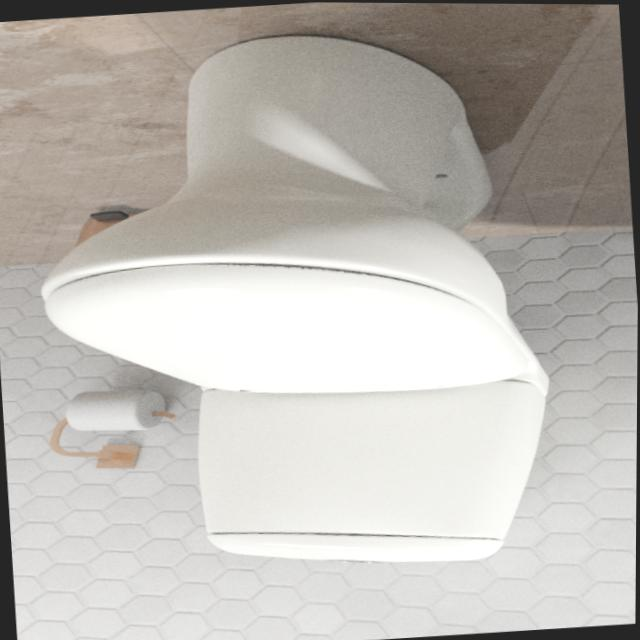toilet: (21, 17, 563, 591)
